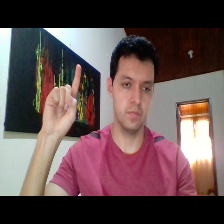2T: (37, 61, 84, 142)
